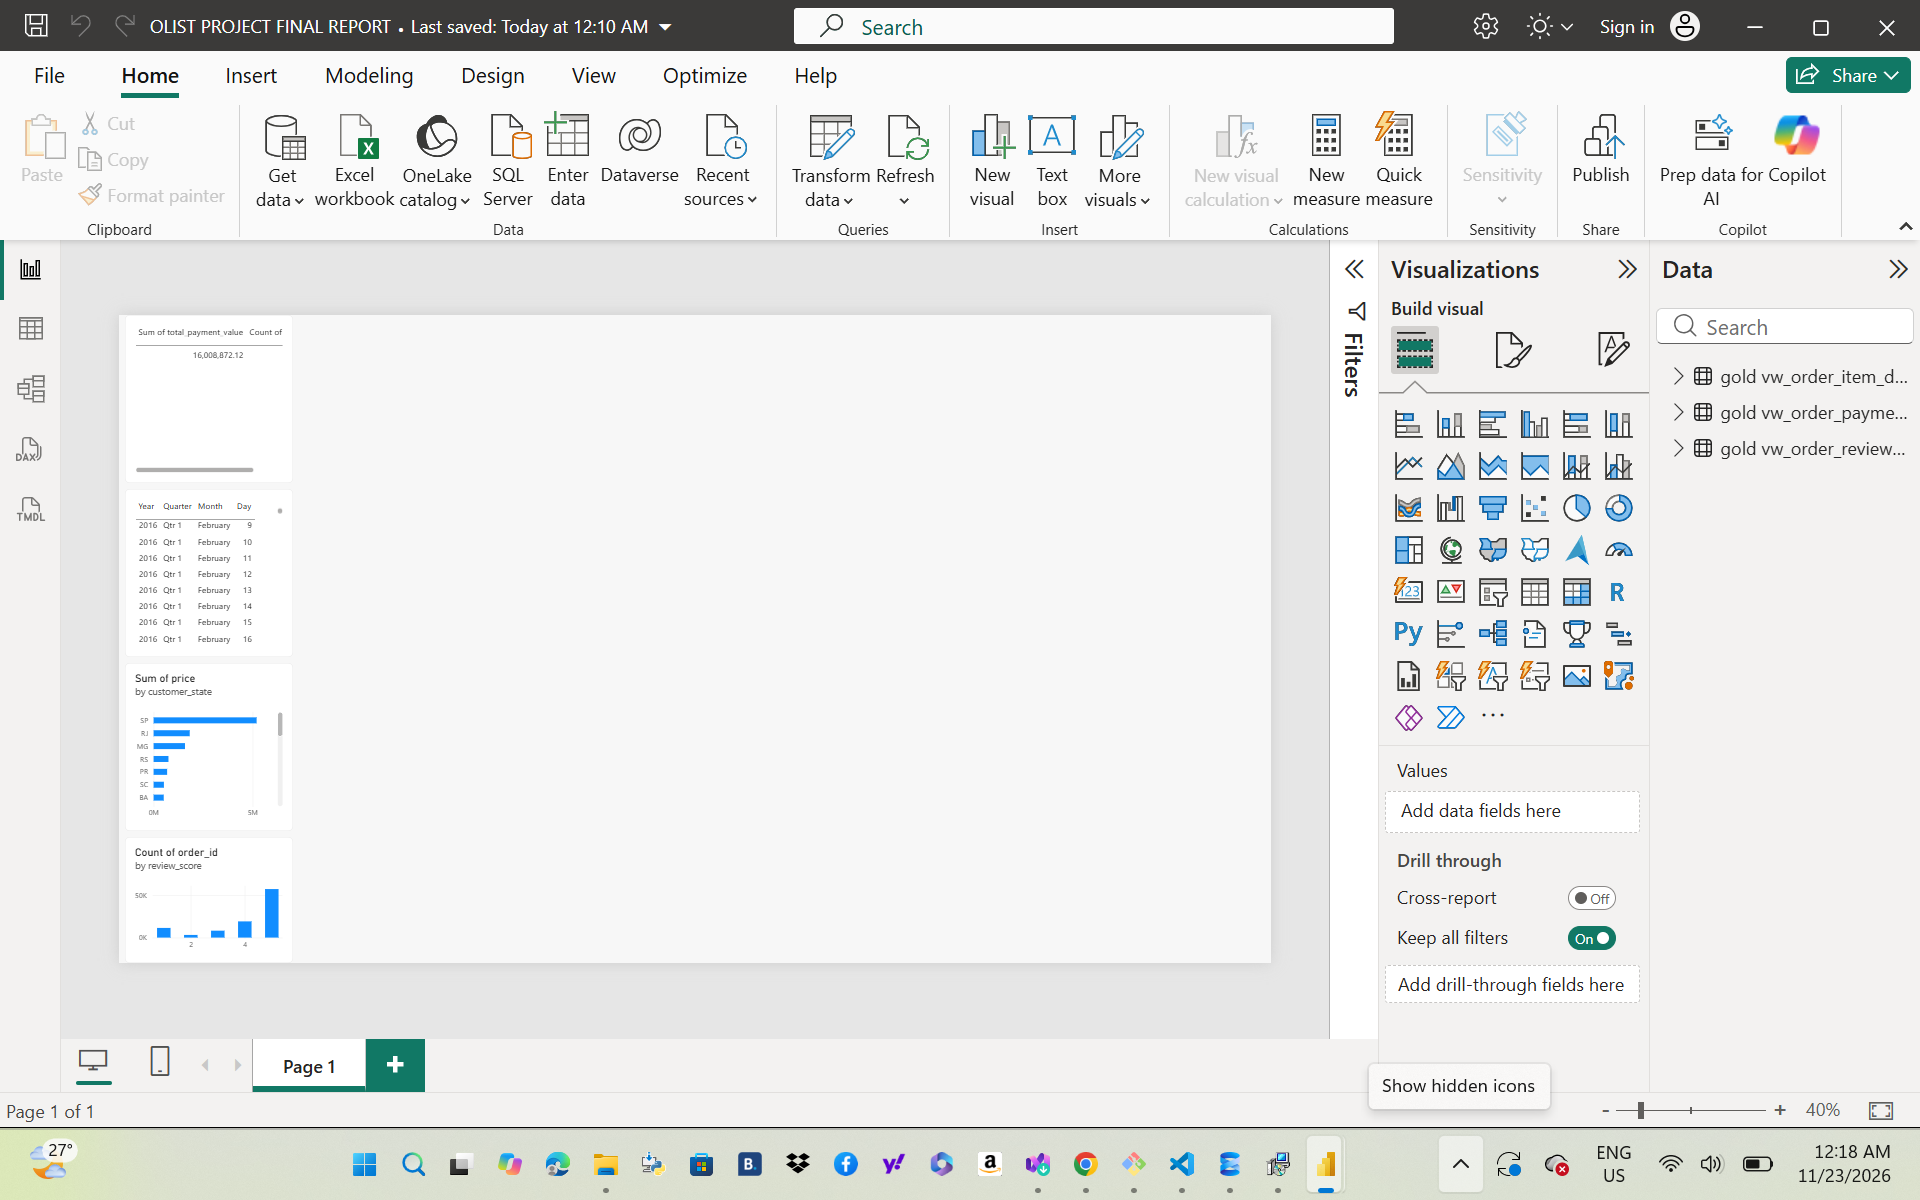

What the dashboard file says about the page in this screenshot:
{"tool":"powerbi","page":{"name":"Page 1","canvas":[1920,1080],"ordinal":0},"visuals":[{"type":"tableEx","fields":{"Values":["Sum(gold vw_order_payments_summary.total_payment_value)","gold vw_order_payments_summary.order_id"]},"box":[10,0,280,280],"z":0},{"type":"tableEx","fields":{"Values":["gold vw_order_item_details.order_purchase_timestamp.Variation.Date Hierarchy.Year","gold vw_order_item_details.order_purchase_timestamp.Variation.Date Hierarchy.Quarter","gold vw_order_item_details.order_purchase_timestamp.Variation.Date Hierarchy.Month","gold vw_order_item_details.order_purchase_timestamp.Variation.Date Hierarchy.Day"]},"box":[10,290,280,280],"z":1},{"type":"barChart","fields":{"Category":["gold vw_order_item_details.customer_state"],"Y":["Sum(gold vw_order_item_details.price)"]},"box":[10,580,280,280],"z":2},{"type":"clusteredColumnChart","fields":{"Category":["gold vw_order_reviews_summary.review_score"],"Y":["CountNonNull(gold vw_order_reviews_summary.order_id)"]},"box":[10,870,280,210],"z":3}]}

Visuals, with their boxes on the page's 1920x1080 design canvas (x1, y1, x2, y2). These are canvas units, not pixel positions in the 1920x1200 screenshot, which may show the page scaled, cropped or inside an application window:
tableEx - Sum(gold vw_order_payments_summary.total_payment_value) x gold vw_order_payments_summary.order_id: <region>10, 0, 290, 280</region>
tableEx - gold vw_order_item_details.order_purchase_timestamp.Variation.Date Hierarchy.Year x gold vw_order_item_details.order_purchase_timestamp.Variation.Date Hierarchy.Quarter: <region>10, 290, 290, 570</region>
barChart - gold vw_order_item_details.customer_state x Sum(gold vw_order_item_details.price): <region>10, 580, 290, 860</region>
clusteredColumnChart - gold vw_order_reviews_summary.review_score x CountNonNull(gold vw_order_reviews_summary.order_id): <region>10, 870, 290, 1080</region>
